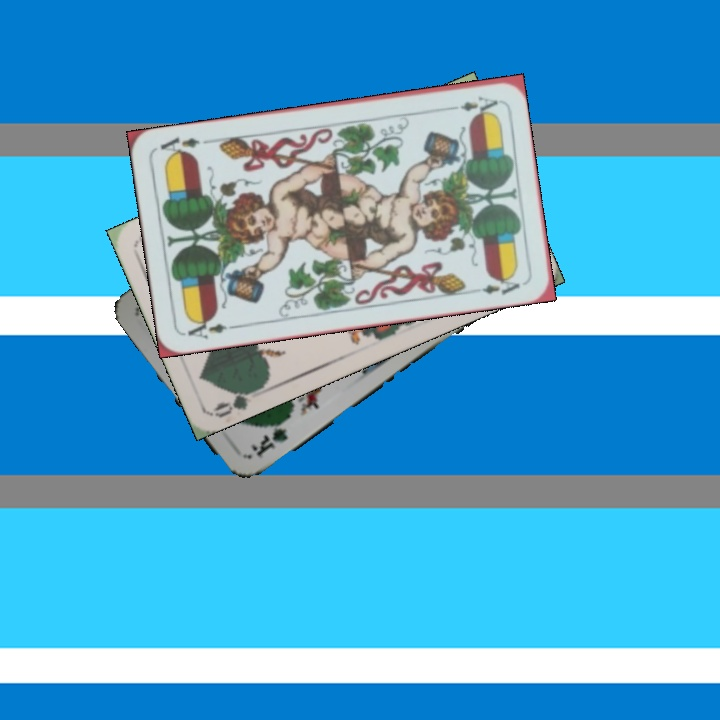EA: (183, 314, 240, 342), (441, 92, 501, 115)
GK: (246, 414, 291, 460)
GO: (210, 382, 266, 421)
